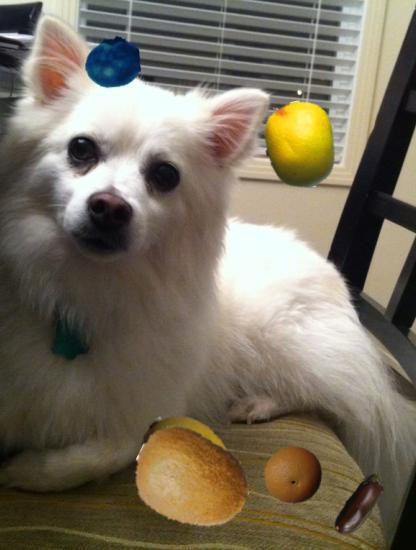Eggplant: (323, 466, 399, 542)
Huckleberry: (85, 34, 141, 90)
Kiwi: (133, 420, 251, 538)
Lemon: (132, 409, 241, 518)
Orange: (264, 446, 324, 506)
Pomelo: (256, 101, 344, 189)
